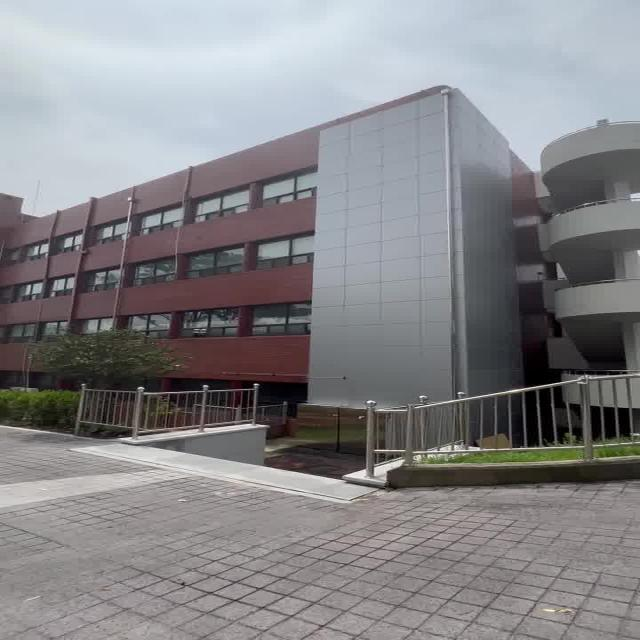building: (34, 116, 533, 356)
